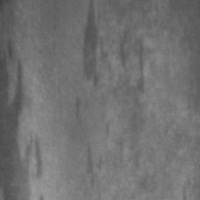inclusion: (1, 36, 44, 199), (110, 22, 149, 146), (80, 4, 108, 91), (82, 141, 104, 190), (73, 93, 88, 125)
